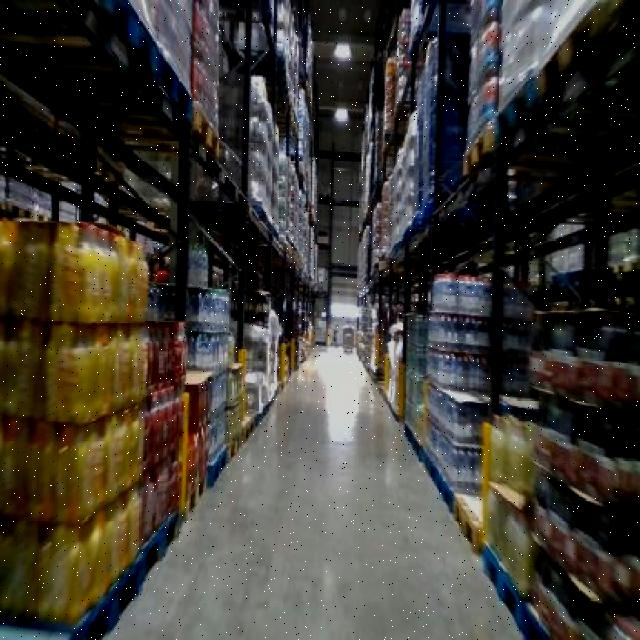pallet: (473, 530, 565, 638), (137, 494, 185, 616), (442, 480, 496, 573)
